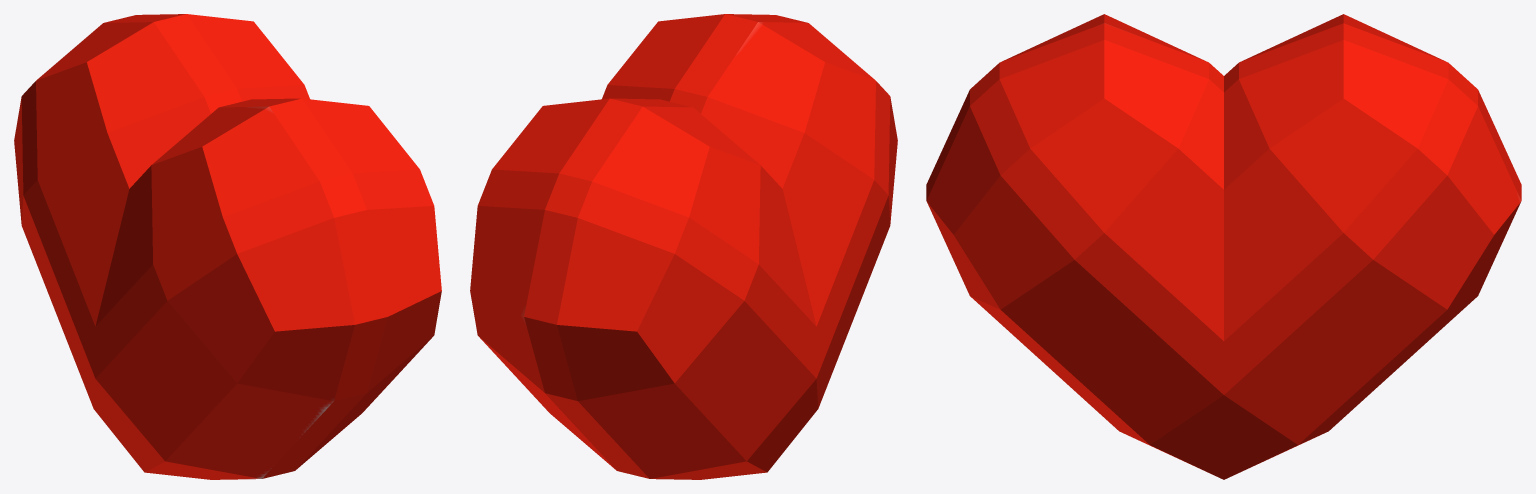
Rendered from heart.fbx.
The picture shows the model from 3 angles, left to right: view 1: azimuth 30°, elevation 25°; view 2: azimuth 150°, elevation 25°; view 3: azimuth 270°, elevation 25°; orthographic projection. The views are drawn at different scales.
Parts seen in each view (by area): view 1: Heart.001; view 2: Heart.001; view 3: Heart.001.
Boxes of the visible parts, x1=… form: Heart.001: x1=14, y1=14, x2=441, y2=479; Heart.001: x1=470, y1=14, x2=897, y2=479; Heart.001: x1=926, y1=14, x2=1521, y2=479.
Size of the model in its own units: 198 by 297 by 372.
